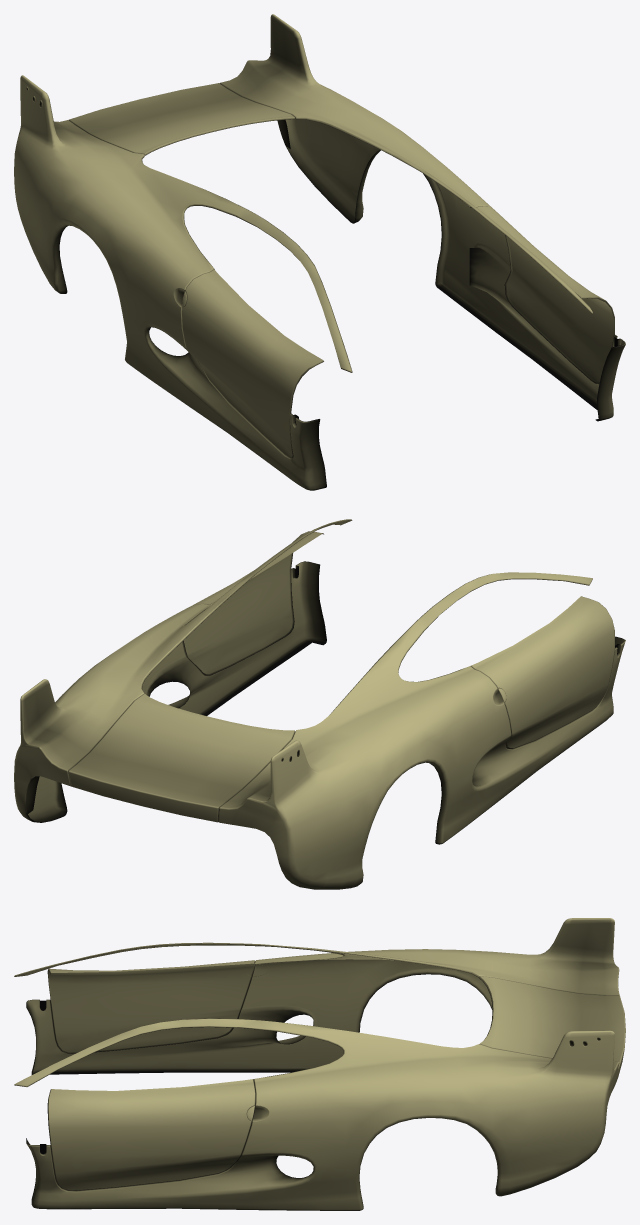
The model's file is MC_XJ220s_Chassis_Duco.fbx.
3 renders of one model, top to bottom at view 1: azimuth 30°, elevation 25°; view 2: azimuth 150°, elevation 25°; view 3: azimuth 270°, elevation 25°, orthographic. The views are drawn at different scales.
Parts seen in each view (by area): view 1: MC_XJ220s_Chassis_Duco; view 2: MC_XJ220s_Chassis_Duco; view 3: MC_XJ220s_Chassis_Duco.
Boxes of the visible parts, bbox=[...] form: MC_XJ220s_Chassis_Duco: bbox=[14, 14, 625, 490]; MC_XJ220s_Chassis_Duco: bbox=[14, 519, 625, 889]; MC_XJ220s_Chassis_Duco: bbox=[14, 918, 625, 1210].
Size of the model in its own units: 203 by 106 by 355.
